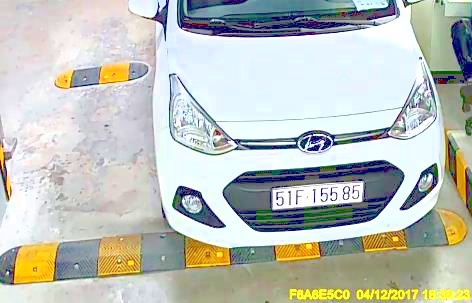plate: (272, 178, 364, 214)
